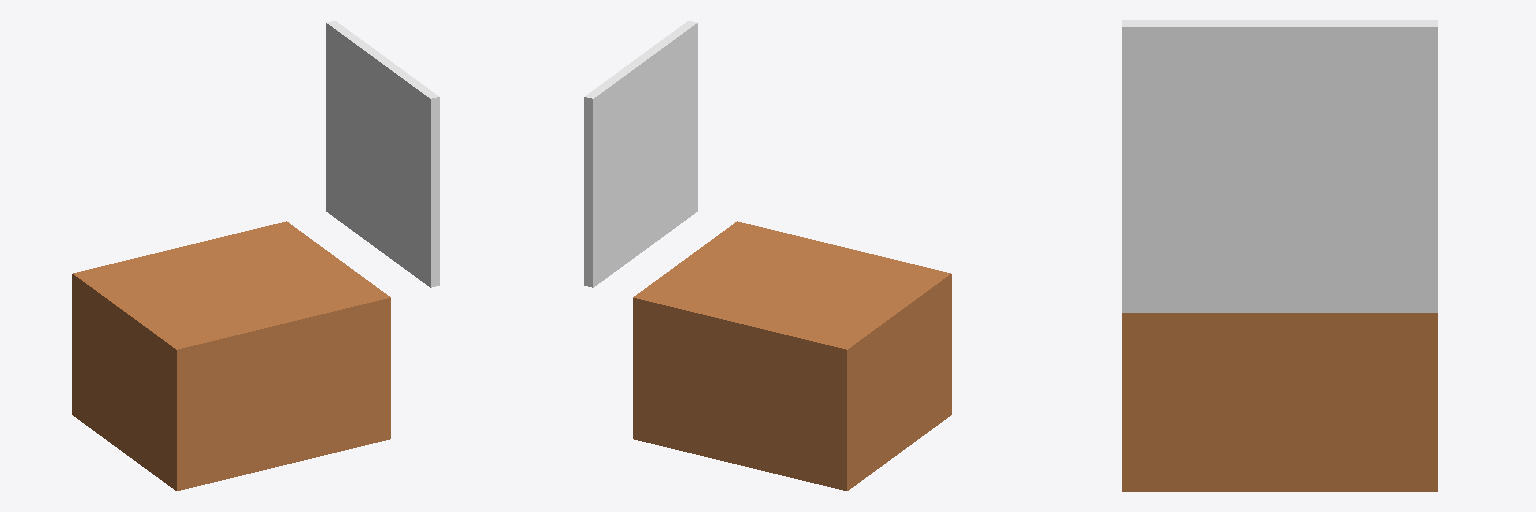
The robot description file, URDF, robot "table_staples_marker_write_c":
<?xml version="1.0"?>
<robot name="table_staples_marker_write_c">
  <link name="box">
    <visual>
      <material name="wood">
        <color rgba="0.82 0.56 0.35 1.0"/>
      </material>
      <origin xyz="0 0 0"/>
      <geometry>
        <box size="0.475 0.4 0.3"/>
      </geometry>
    </visual>
    <collision>
      <origin xyz="0 0 0"/>
      <geometry>
        <box size="0.475 0.4 0.3"/>
      </geometry>
    </collision>
    <!-- Whiteboard -->
    <visual>
      <material name="whiteboard">
        <color rgba="1.0 1.0 1.0 1.0"/>
      </material>
      <origin xyz="0.335 0.0 0.35"/>
      <geometry>
        <box size="0.02 0.4 0.4"/>
      </geometry>
    </visual>
    <collision>
      <origin xyz="0.335 0.0 0.35"/>
      <geometry>
        <box size="0.02 0.4 0.4"/>
      </geometry>
    </collision>
    <inertial>
      <mass value="500"/>
      <friction value="1.0"/>
      <inertia ixx="1000.0" ixy="0.0" ixz="0.0" iyy="1000.0" iyz="0.0" izz="1000.0"/>
    </inertial>
  </link>
</robot>

--- Render facts (derived) ---
3 views of the same robot in one strip: view 1: azimuth 30°, elevation 25°; view 2: azimuth 150°, elevation 25°; view 3: azimuth 270°, elevation 25° (orthographic).
Model table_staples_marker_write_c with 1 links and 0 joints (none), rooted at box, posed every joint at zero.
Links seen in each view (by area): view 1: box; view 2: box; view 3: box.
Boxes of the visible links, x1,y1,x2,y2 form: box: (72, 21, 439, 490); box: (584, 21, 951, 490); box: (1122, 20, 1437, 491).
Bounding box of the posed robot: 0.5825 × 0.4 × 0.7 m (x, y, z).
Geometry: primitives only (box / cylinder / sphere), no mesh files.
